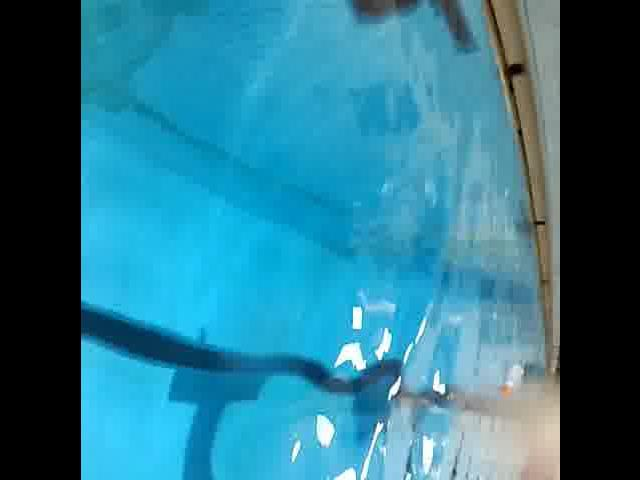Bottle: (494, 358, 526, 406)
